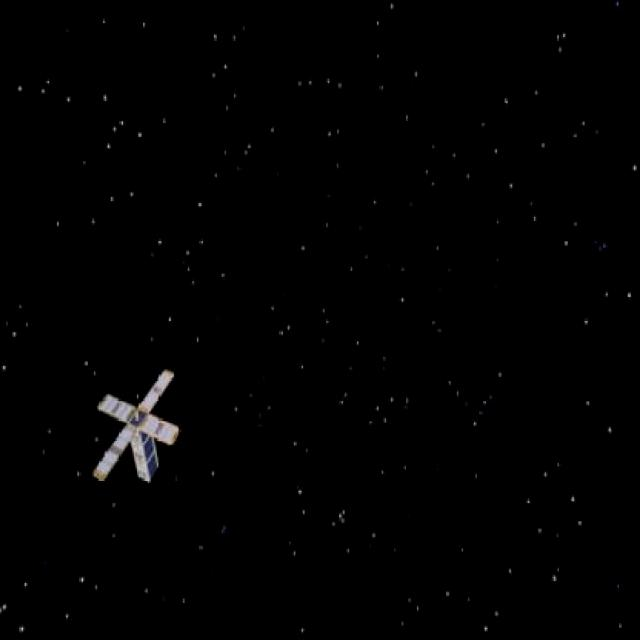satellite: (88, 364, 194, 494)
